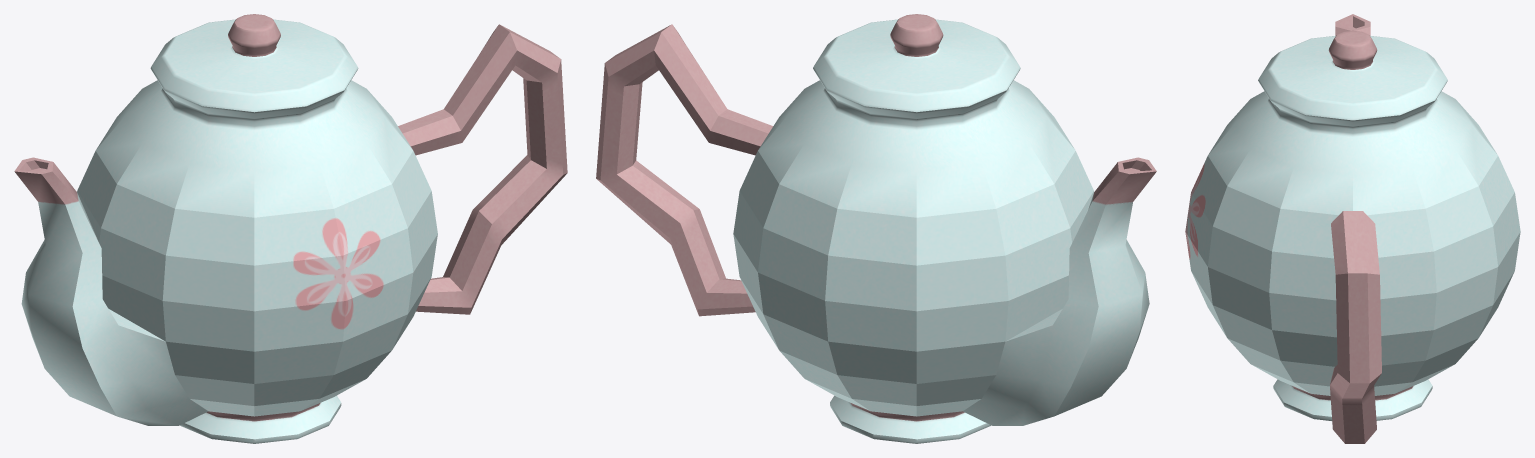
Rendered from teapot1.fbx.
3 views of the same model, side by side, from view 1: azimuth 30°, elevation 25°; view 2: azimuth 150°, elevation 25°; view 3: azimuth 270°, elevation 25° (orthographic). The views are drawn at different scales.
Visible parts, largest first — view 1: teapot_geo; view 2: teapot_geo; view 3: teapot_geo.
Part boxes in pixels (left/top/right/bottom): teapot_geo: left=14, top=14, right=567, bottom=443; teapot_geo: left=596, top=14, right=1156, bottom=443; teapot_geo: left=1185, top=14, right=1520, bottom=443.
Bounding box in the file's own units: 8.41 × 5.63 × 4.84.
